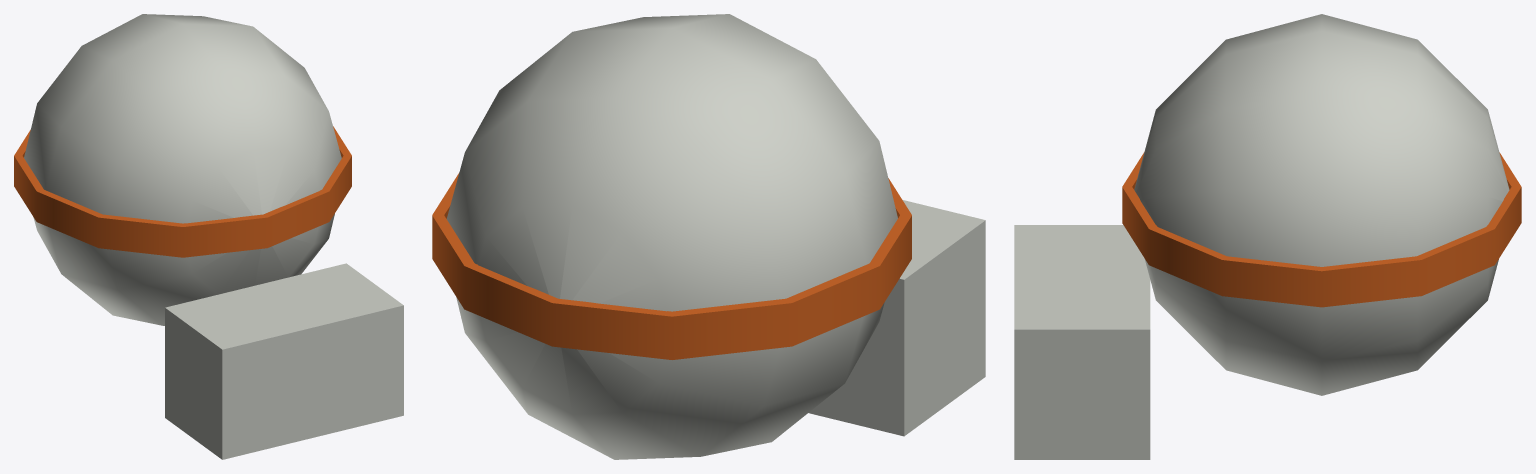
3 views of the same model, side by side, from view 1: azimuth 30°, elevation 25°; view 2: azimuth 150°, elevation 25°; view 3: azimuth 270°, elevation 25° (orthographic). The views are drawn at different scales.
Visible parts, largest first — view 1: o4_o2; view 2: o4_o2; view 3: o4_o2.
Boxes of the visible parts, <box> form: o4_o2: <box>14,14,403,459</box>; o4_o2: <box>432,14,985,459</box>; o4_o2: <box>1014,14,1521,459</box>.
Bounding box in the file's own units: 1 × 1.04 × 1.27.
